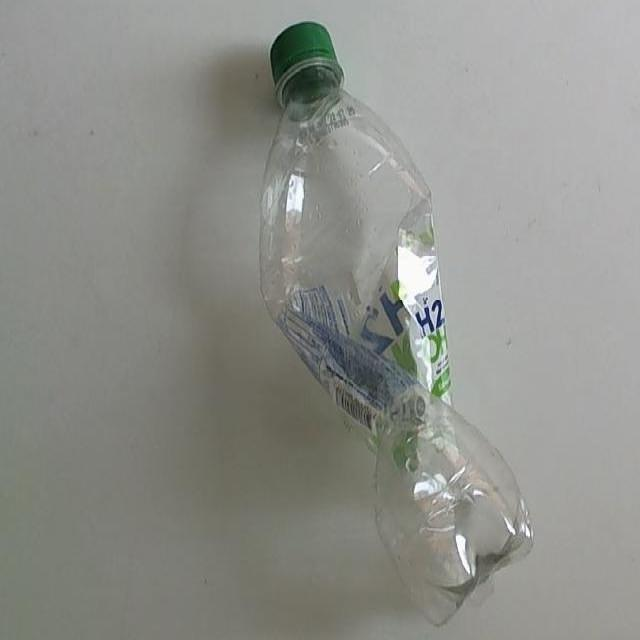defect: (255, 16, 537, 631)
